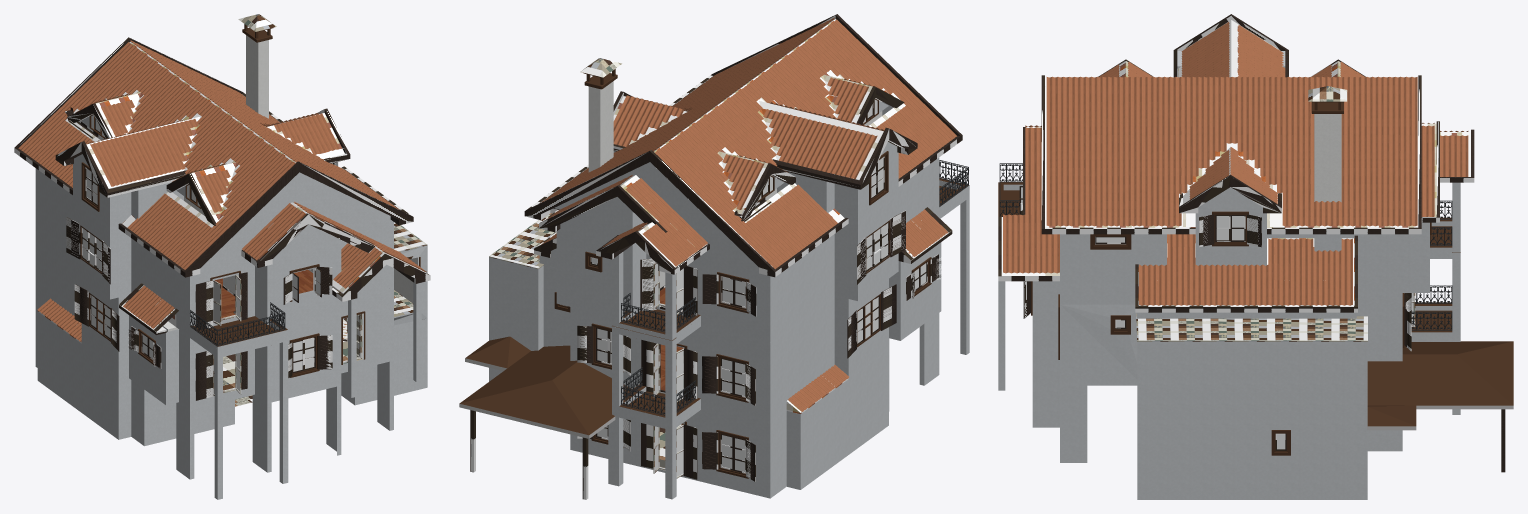
Rendered from architecture.glb.
3 renders of one model, left to right at view 1: azimuth 30°, elevation 25°; view 2: azimuth 150°, elevation 25°; view 3: azimuth 270°, elevation 25°, orthographic. The views are drawn at different scales.
Parts seen in each view (by area): view 1: architecture-other-9, architecture-tile-1, architecture-wood-2, architecture-other-4, architecture-tile-7, architecture-glass-3, architecture-plaster-0, architecture-metal-6, architecture-plaster-5, architecture-wood-10; view 2: architecture-other-9, architecture-tile-1, architecture-wood-2, architecture-other-4, architecture-glass-3, architecture-tile-7, architecture-metal-6, architecture-plaster-0; view 3: architecture-tile-1, architecture-other-9, architecture-other-4, architecture-wood-2, architecture-tile-7, architecture-plaster-0, architecture-metal-6, architecture-glass-3.
Boxes of the visible parts, bbox=[...] form: architecture-other-9: bbox=[35, 116, 427, 499]; architecture-tile-1: bbox=[18, 40, 426, 341]; architecture-wood-2: bbox=[14, 37, 430, 400]; architecture-other-4: bbox=[80, 14, 427, 406]; architecture-tile-7: bbox=[37, 42, 427, 343]; architecture-glass-3: bbox=[82, 115, 320, 393]; architecture-plaster-0: bbox=[92, 35, 268, 330]; architecture-metal-6: bbox=[190, 302, 285, 346]; architecture-plaster-5: bbox=[88, 114, 418, 399]; architecture-wood-10: bbox=[214, 269, 313, 320]; architecture-other-9: bbox=[489, 100, 969, 499]; architecture-tile-1: bbox=[539, 17, 956, 411]; architecture-wood-2: bbox=[459, 14, 962, 499]; architecture-other-4: bbox=[459, 58, 969, 478]; architecture-glass-3: bbox=[592, 99, 926, 476]; architecture-tile-7: bbox=[542, 19, 921, 413]; architecture-metal-6: bbox=[621, 160, 968, 415]; architecture-plaster-0: bbox=[588, 81, 879, 307]; architecture-tile-1: bbox=[1003, 22, 1468, 305]; architecture-other-9: bbox=[998, 51, 1460, 499]; architecture-other-4: bbox=[998, 86, 1513, 455]; architecture-wood-2: bbox=[998, 14, 1513, 472]; architecture-tile-7: bbox=[1001, 20, 1470, 305]; architecture-plaster-0: bbox=[1314, 114, 1341, 202]; architecture-metal-6: bbox=[999, 163, 1452, 330]; architecture-glass-3: bbox=[1021, 187, 1413, 449].
Size of the model in its own units: 14.28 by 14.92 by 18.8.
11 materials, 11 textured.
